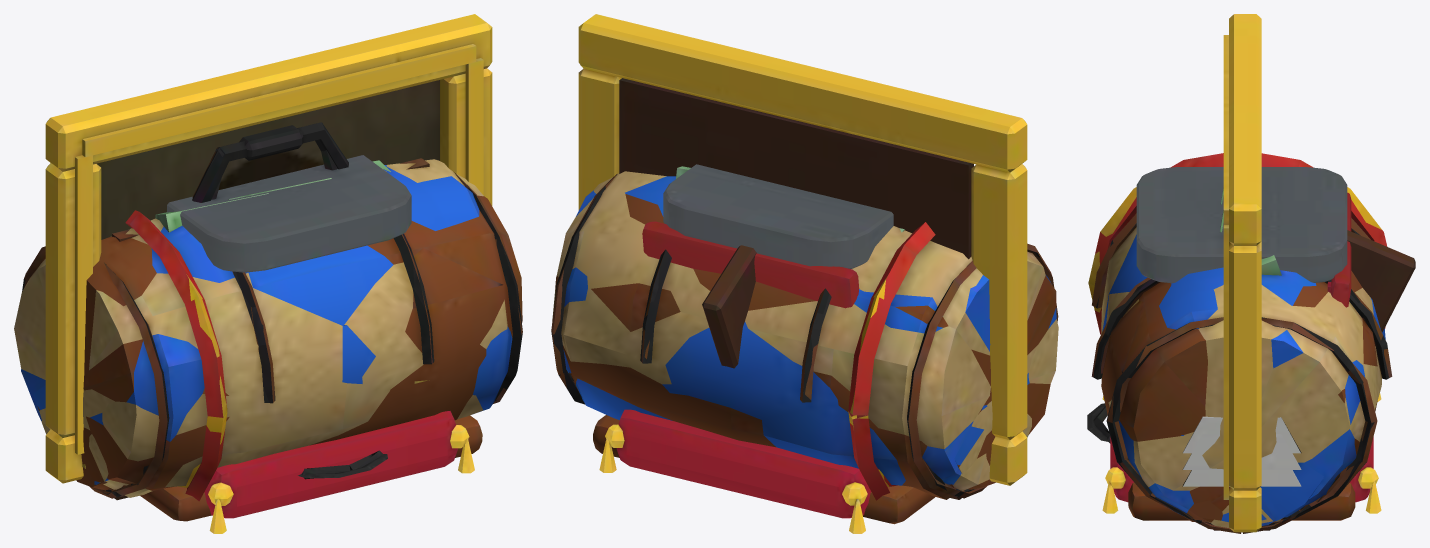
The model's file is loot.glb.
The picture shows the model from 3 angles, left to right: view 1: azimuth 30°, elevation 25°; view 2: azimuth 150°, elevation 25°; view 3: azimuth 270°, elevation 25°; orthographic projection. The views are drawn at different scales.
Parts seen in each view (by area): view 1: vault_art_body, bag_platno_3_body, bag_koza_3_body, bag_sport_3_body, vault_proto_body, vault_diamond_body, bag_koza_0_body, bag_koza_1_body, bag_platno_2_body; view 2: vault_art_body, bag_platno_3_body, bag_sport_3_body, bag_koza_3_body, vault_proto_body, vault_diamond_body, vault_jewel_body, bag_koza_0_body, bag_platno_2_body, bag_sport_2_body; view 3: bag_platno_3_body, vault_art_body, vault_proto_body, bag_sport_3_body, bag_koza_3_body, bag_sport_2_body, bag_koza_0_body, vault_diamond_body, bag_sport_1_body, vault_jewel_body, bag_koza_1_body, bag_platno_1_body.
Boxes of the visible parts, x1,y1,x2,y2 form: vault_art_body: (45,14,492,500); bag_platno_3_body: (14,140,522,501); bag_koza_3_body: (22,126,522,491); bag_sport_3_body: (21,122,522,461); vault_proto_body: (167,123,411,272); vault_diamond_body: (204,411,474,533); bag_koza_0_body: (140,415,482,521); bag_koza_1_body: (76,427,122,491); bag_platno_2_body: (39,389,114,429); vault_art_body: (578,14,1027,499); bag_platno_3_body: (551,168,1058,500); bag_sport_3_body: (551,169,1056,485); bag_koza_3_body: (555,166,1056,499); vault_proto_body: (663,164,893,268); vault_diamond_body: (599,409,871,533); vault_jewel_body: (642,221,859,308); bag_koza_0_body: (593,415,934,524); bag_platno_2_body: (569,345,1037,486); bag_sport_2_body: (571,373,1029,494); bag_platno_3_body: (1091,153,1392,519); vault_art_body: (1213,14,1415,532); vault_proto_body: (1136,167,1347,283); bag_sport_3_body: (1088,187,1387,522); bag_koza_3_body: (1093,188,1389,521); bag_sport_2_body: (1181,434,1345,524); bag_koza_0_body: (1087,403,1355,520); vault_diamond_body: (1102,393,1381,513); bag_sport_1_body: (1182,470,1301,533); vault_jewel_body: (1327,192,1351,307); bag_koza_1_body: (1190,486,1304,526); bag_platno_1_body: (1200,504,1308,533).
Size of the model in its own units: 0.7 by 0.6172 by 0.4992.
Materials: 22 (21 with a texture image).
